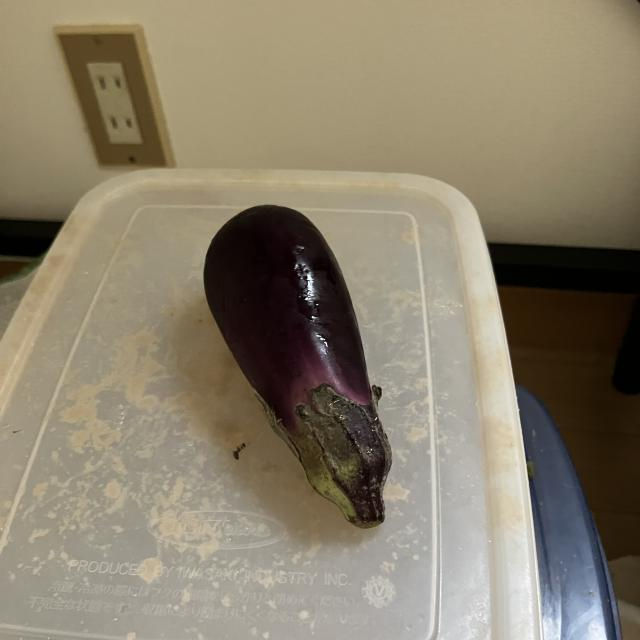eggplant: (199, 201, 396, 532)
